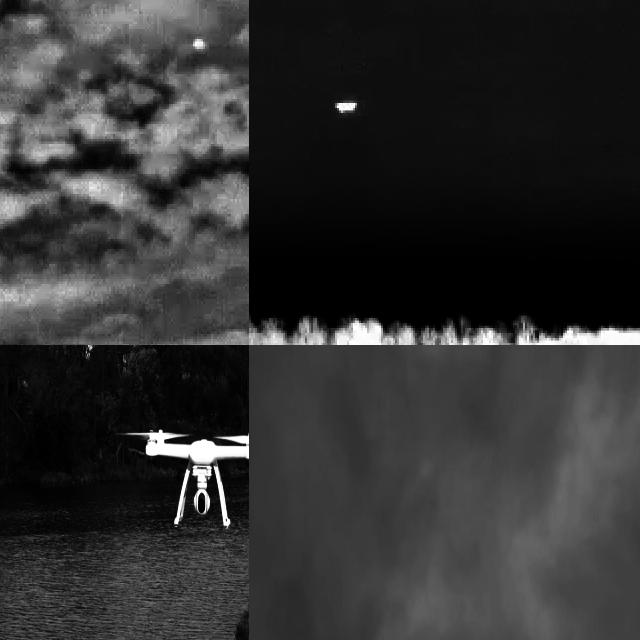0: (181, 26, 209, 64)
1: (322, 93, 366, 125)
drone: (139, 427, 249, 533)
